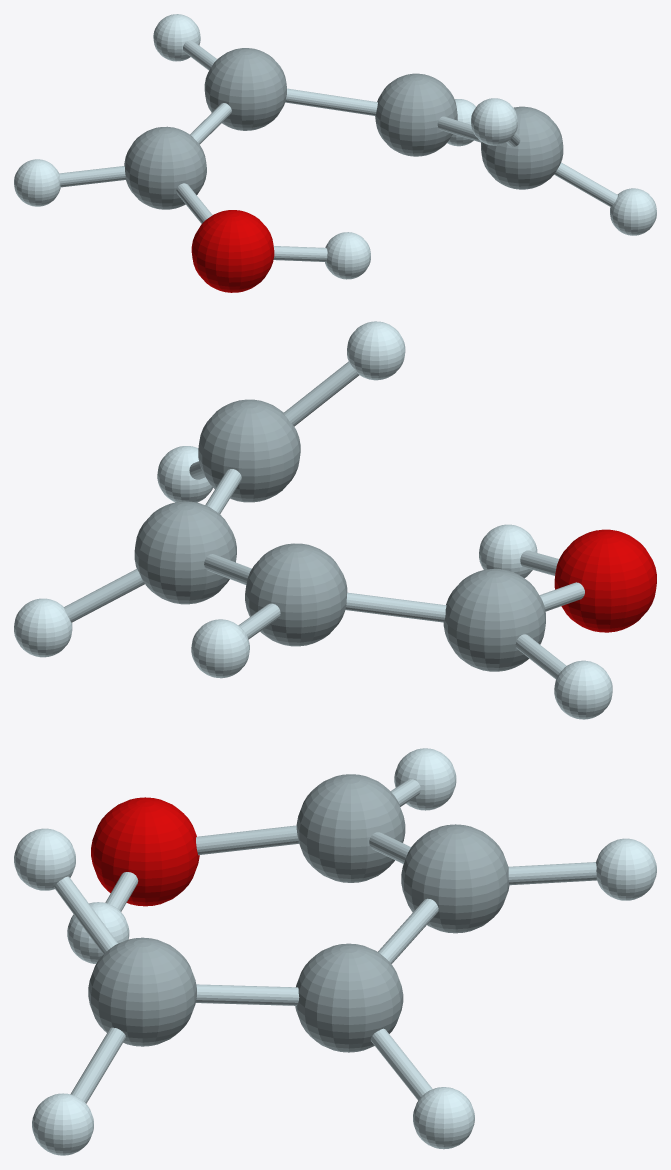
The model's file is irc_060.glb.
3 renders of one model, top to bottom at view 1: azimuth 30°, elevation 25°; view 2: azimuth 150°, elevation 25°; view 3: azimuth 270°, elevation 25°, orthographic. The views are drawn at different scales.
Parts seen in each view (by area): view 1: Renderer Node; view 2: Renderer Node; view 3: Renderer Node.
Part boxes in pixels (left/top/right/bottom): Renderer Node: left=14, top=14, right=656, bottom=292; Renderer Node: left=14, top=321, right=656, bottom=719; Renderer Node: left=14, top=748, right=656, bottom=1155.
Bounding box in the file's own units: 4.85 × 1.7 × 4.13.
